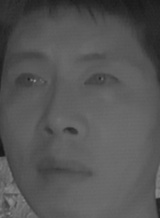eye: (14, 67, 48, 96), (82, 69, 122, 93)
mouth: (34, 153, 94, 191)
